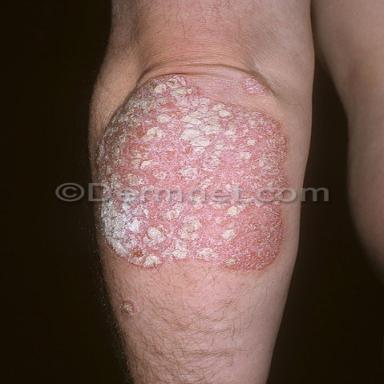Psoriasis: (94, 74, 288, 185), (97, 203, 284, 273), (242, 77, 267, 95), (119, 299, 139, 316)
